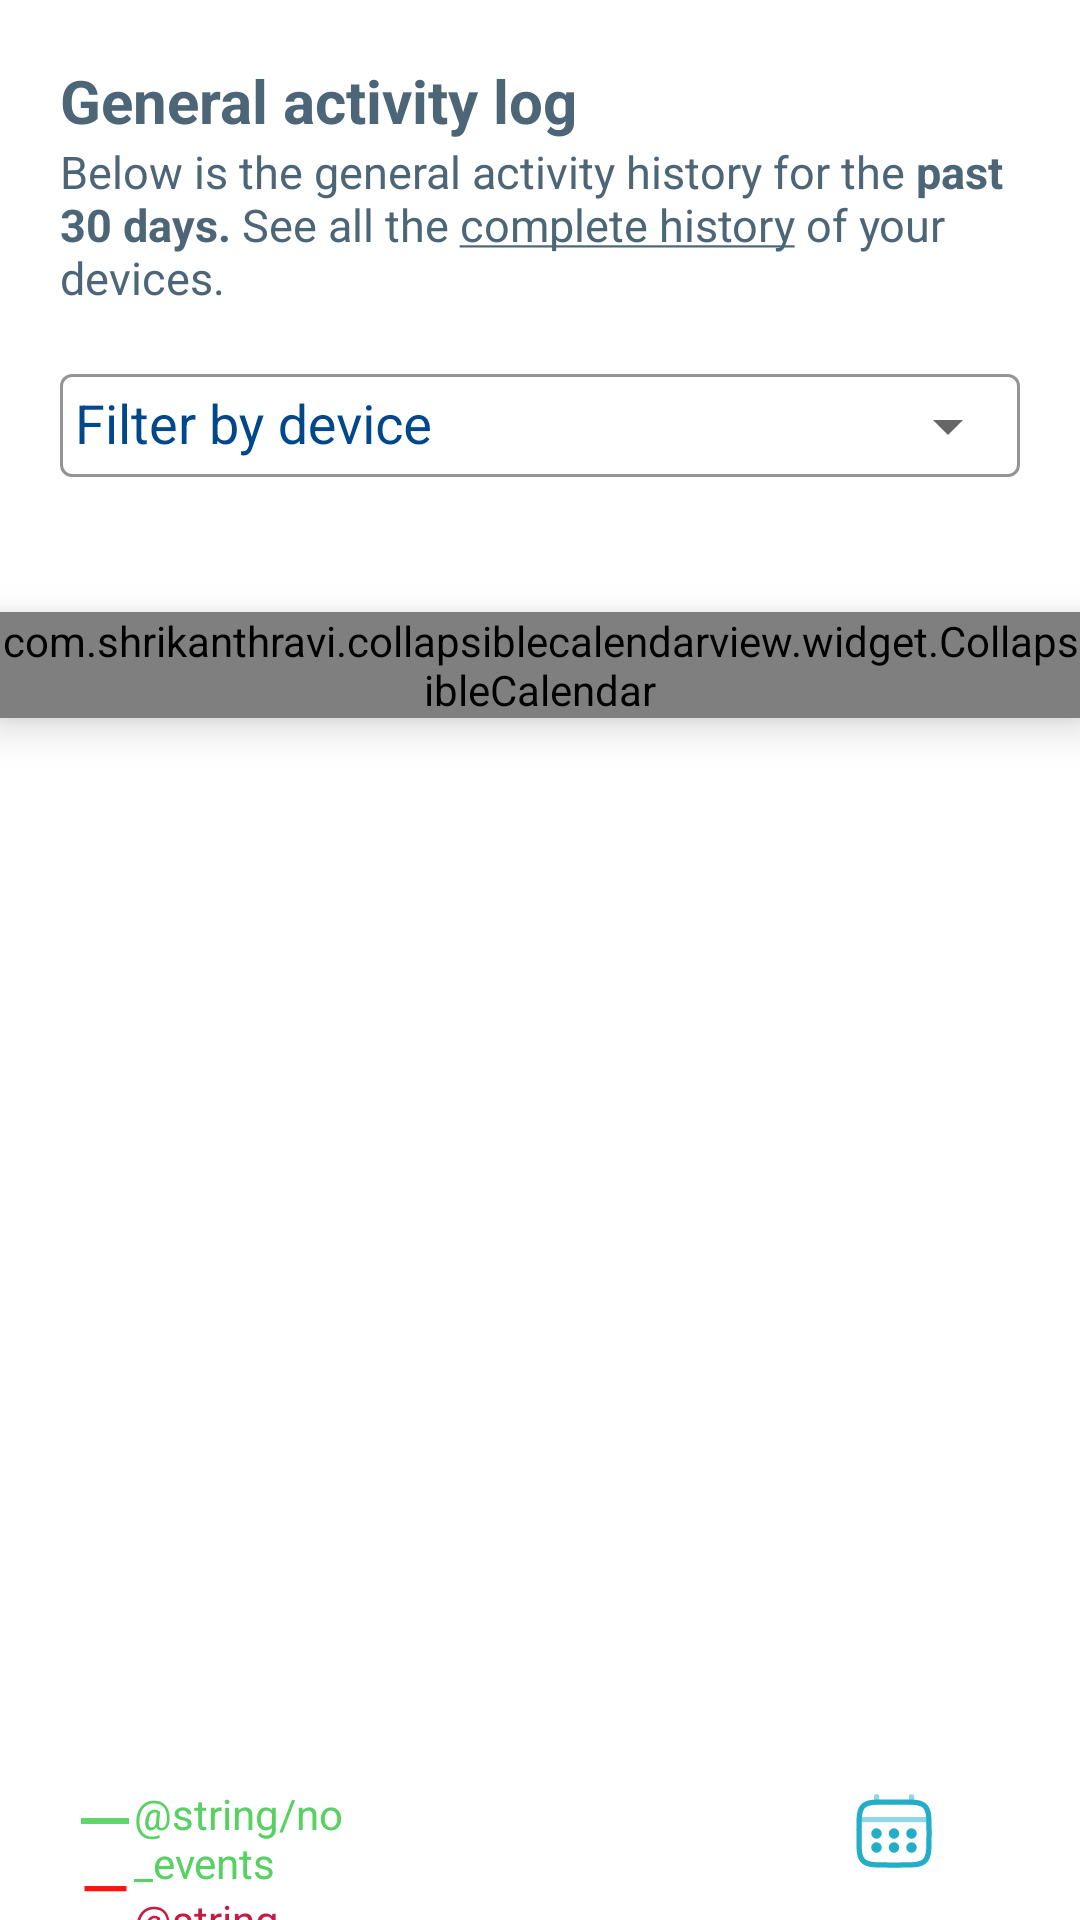

Locate icon controls on the screen. Image size 1080 × 1920, boxes as (x1, y1, x2, y2).
calendar month: (856, 1794, 932, 1868)
